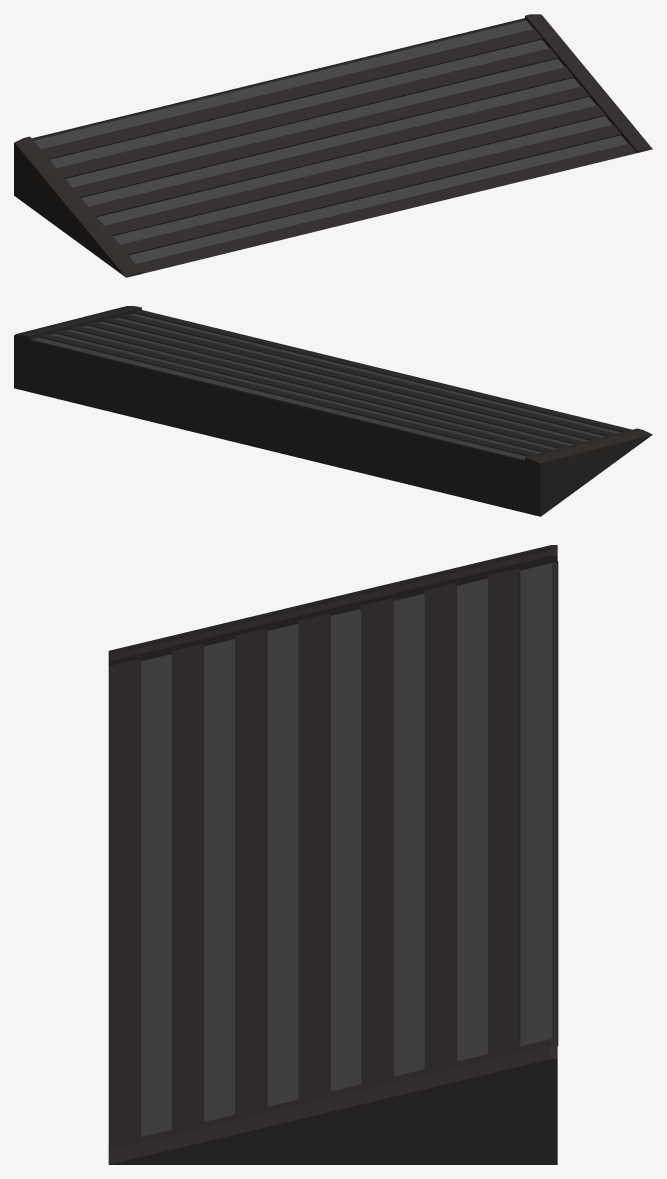
The model's file is small_steps.fbx.
The picture shows the model from 3 angles, top to bottom: view 1: azimuth 30°, elevation 25°; view 2: azimuth 150°, elevation 25°; view 3: azimuth 270°, elevation 25°; orthographic projection. The views are drawn at different scales.
Visible parts, largest first — view 1: Cube; view 2: Cube; view 3: Cube.
Part boxes in pixels (x1,y1,x2,y2): Cube: (14, 14, 652, 277); Cube: (14, 306, 652, 516); Cube: (108, 545, 558, 1164).
Size of the model in its own units: 550 by 55.11 by 203.
